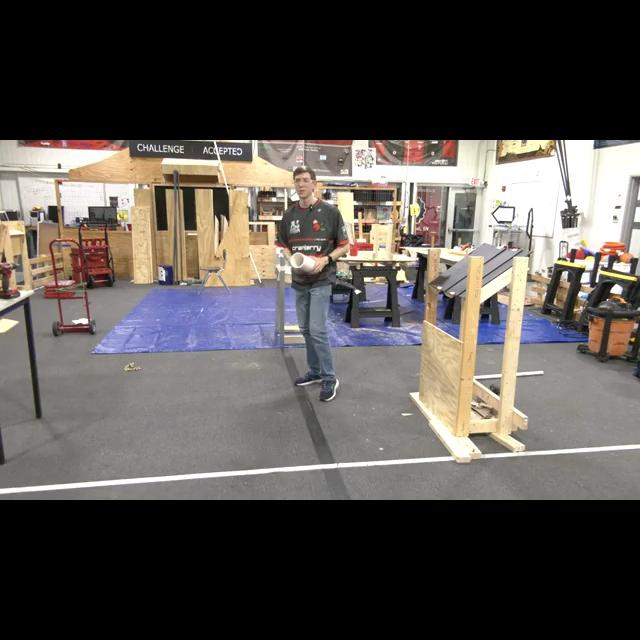CORAL: (288, 251, 316, 273)
